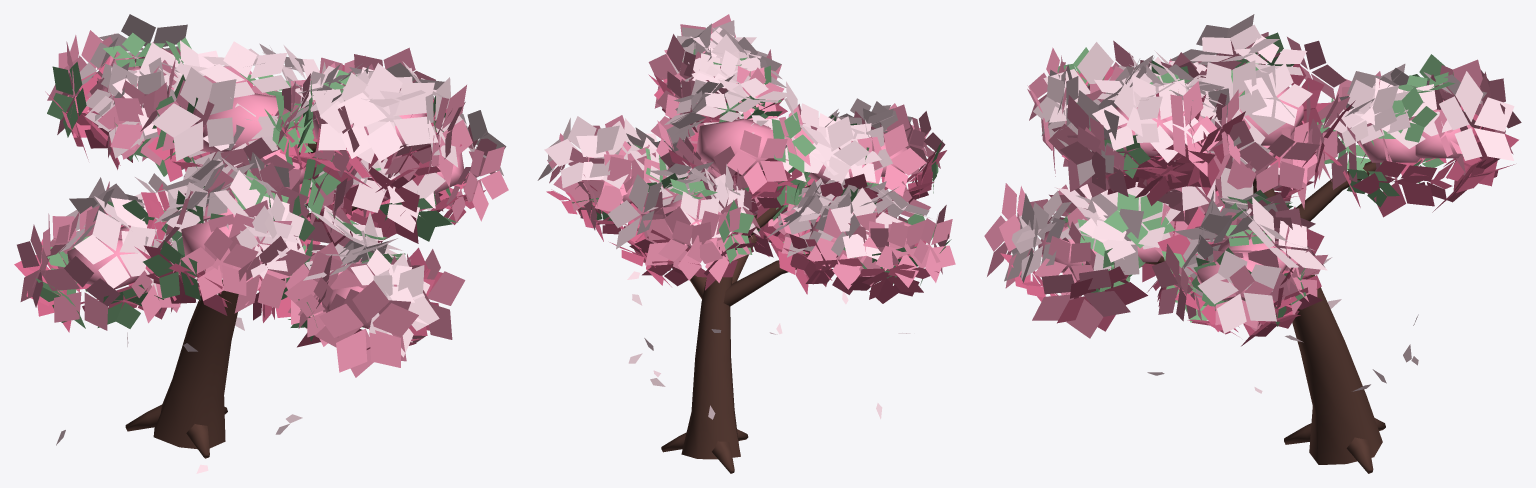
File: sakura_tree_small.glb
3 views of the same model, side by side, from view 1: azimuth 30°, elevation 25°; view 2: azimuth 150°, elevation 25°; view 3: azimuth 270°, elevation 25° (orthographic). The views are drawn at different scales.
Visible parts, largest first — view 1: Sakura_Tree_Small_Blossoms_Top, Sakura_Tree_Small_Blossoms_Mid, Sakura_Tree_Small_Spring_Leaves, Sakura_Tree_Small_Blossoms_Deep, Sakura_Tree_Small_Trunk, Sakura_Tree_Small_CanopyCore; view 2: Sakura_Tree_Small_Blossoms_Top, Sakura_Tree_Small_Blossoms_Mid, Sakura_Tree_Small_Blossoms_Deep, Sakura_Tree_Small_Trunk, Sakura_Tree_Small_Spring_Leaves, Sakura_Tree_Small_CanopyCore; view 3: Sakura_Tree_Small_Blossoms_Top, Sakura_Tree_Small_Blossoms_Mid, Sakura_Tree_Small_Blossoms_Deep, Sakura_Tree_Small_Trunk, Sakura_Tree_Small_Spring_Leaves, Sakura_Tree_Small_CanopyCore.
Part boxes in pixels (left/top/right/bottom): Sakura_Tree_Small_Blossoms_Top: left=56, top=14, right=506, bottom=473; Sakura_Tree_Small_Blossoms_Mid: left=17, top=30, right=508, bottom=377; Sakura_Tree_Small_Spring_Leaves: left=35, top=32, right=457, bottom=341; Sakura_Tree_Small_Blossoms_Deep: left=14, top=55, right=485, bottom=349; Sakura_Tree_Small_Trunk: left=125, top=142, right=357, bottom=458; Sakura_Tree_Small_CanopyCore: left=67, top=66, right=465, bottom=327; Sakura_Tree_Small_Blossoms_Top: left=537, top=20, right=930, bottom=419; Sakura_Tree_Small_Blossoms_Mid: left=547, top=14, right=955, bottom=289; Sakura_Tree_Small_Blossoms_Deep: left=546, top=74, right=946, bottom=303; Sakura_Tree_Small_Trunk: left=661, top=185, right=810, bottom=473; Sakura_Tree_Small_Spring_Leaves: left=572, top=49, right=951, bottom=285; Sakura_Tree_Small_CanopyCore: left=590, top=72, right=914, bottom=257; Sakura_Tree_Small_Blossoms_Top: left=1004, top=14, right=1514, bottom=393; Sakura_Tree_Small_Blossoms_Mid: left=984, top=32, right=1521, bottom=338; Sakura_Tree_Small_Blossoms_Deep: left=1000, top=64, right=1518, bottom=346; Sakura_Tree_Small_Trunk: left=1145, top=161, right=1385, bottom=473; Sakura_Tree_Small_Spring_Leaves: left=1057, top=32, right=1455, bottom=326; Sakura_Tree_Small_CanopyCore: left=1038, top=84, right=1472, bottom=300.
Bounding box in the file's own units: 5.07 × 4.32 × 4.87.
